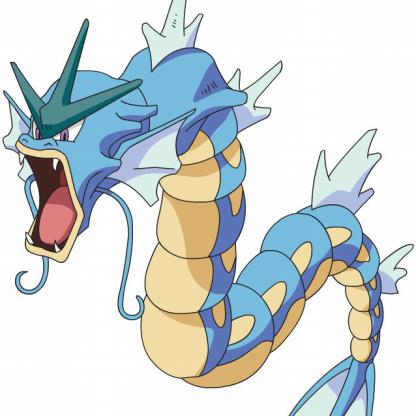Gyarados: (1, 39, 412, 416)
